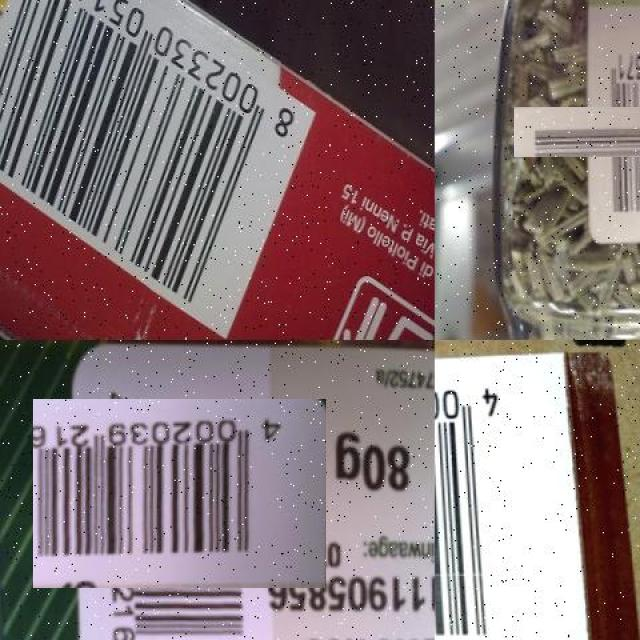Barcode: (0, 0, 323, 340), (59, 373, 301, 614), (435, 369, 528, 640), (551, 70, 640, 196)
